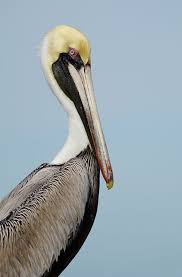pelican: (1, 20, 115, 277)
